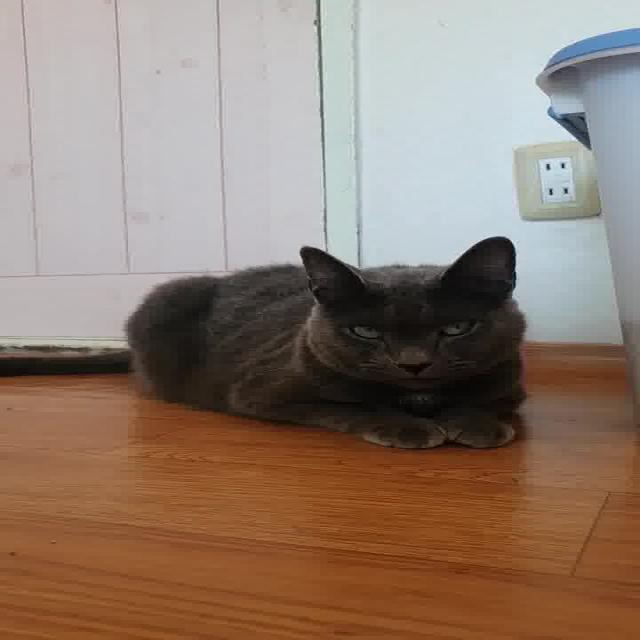cat: (0, 236, 573, 452)
